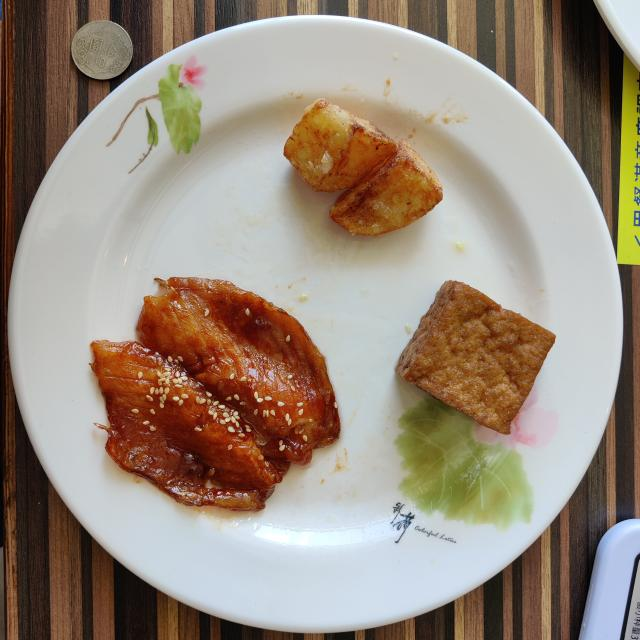Kabayaki sea bream fillet: (91, 278, 340, 510)
coin: (71, 20, 132, 80)
egg tofu: (396, 280, 555, 435)
fried potato: (284, 99, 441, 235)
